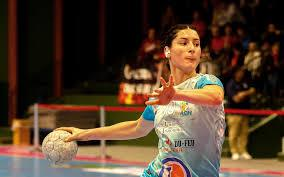ballon_handball: (42, 130, 79, 165)
